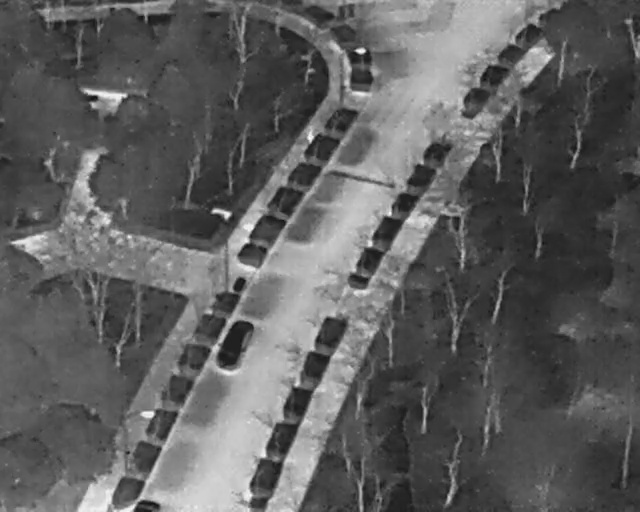Car: (210, 313, 260, 378), (131, 497, 162, 510)
Person: (305, 127, 316, 145)
